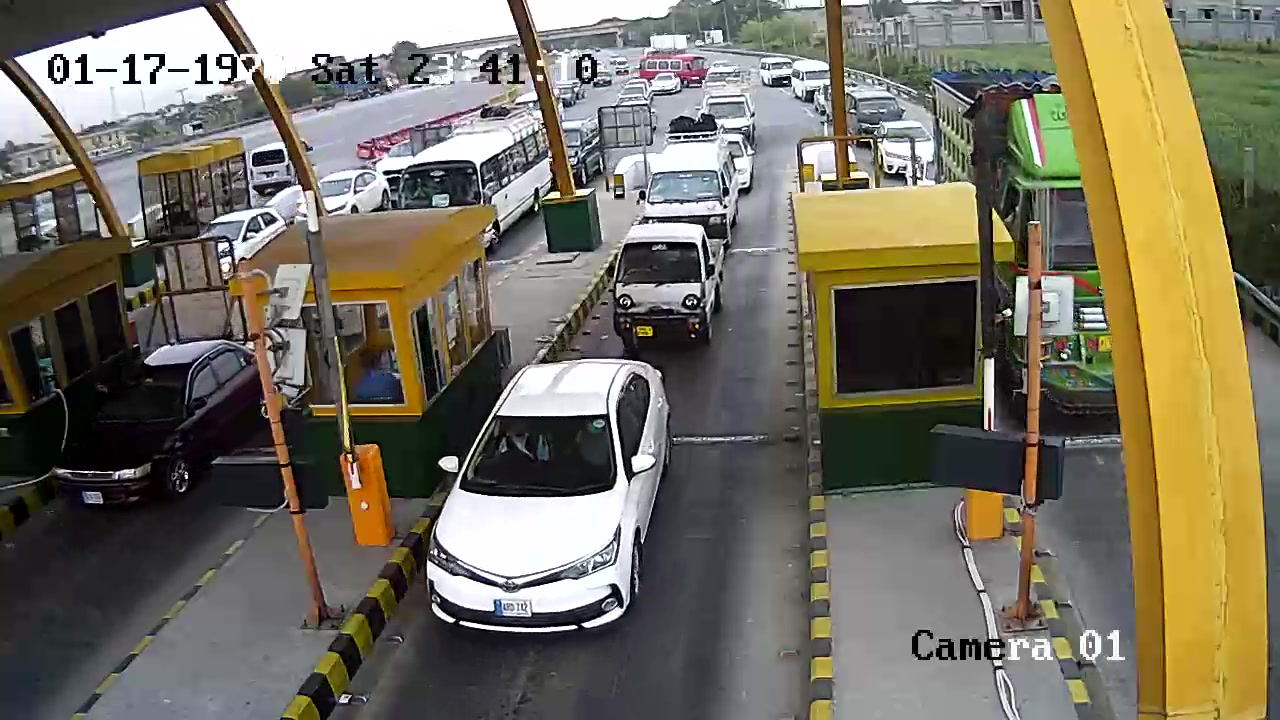F1: (423, 362, 691, 653), (614, 218, 732, 357)
